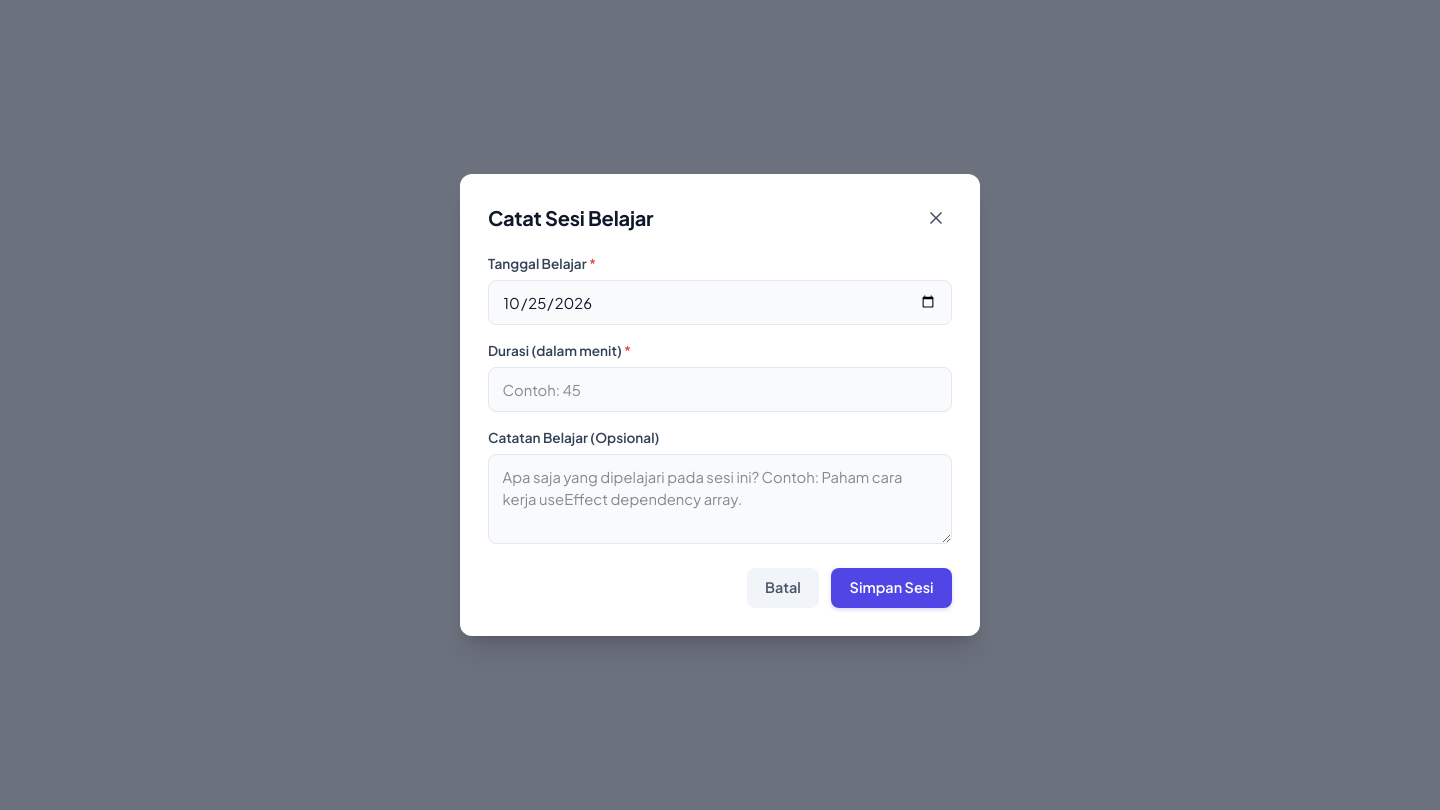
it: SesiForm Component tests › menampilkan error jika tanggal dikosongkan
Clear the date field labelled "Tanggal Belajar *". click: (720, 303)
box: [488,280,952,325]
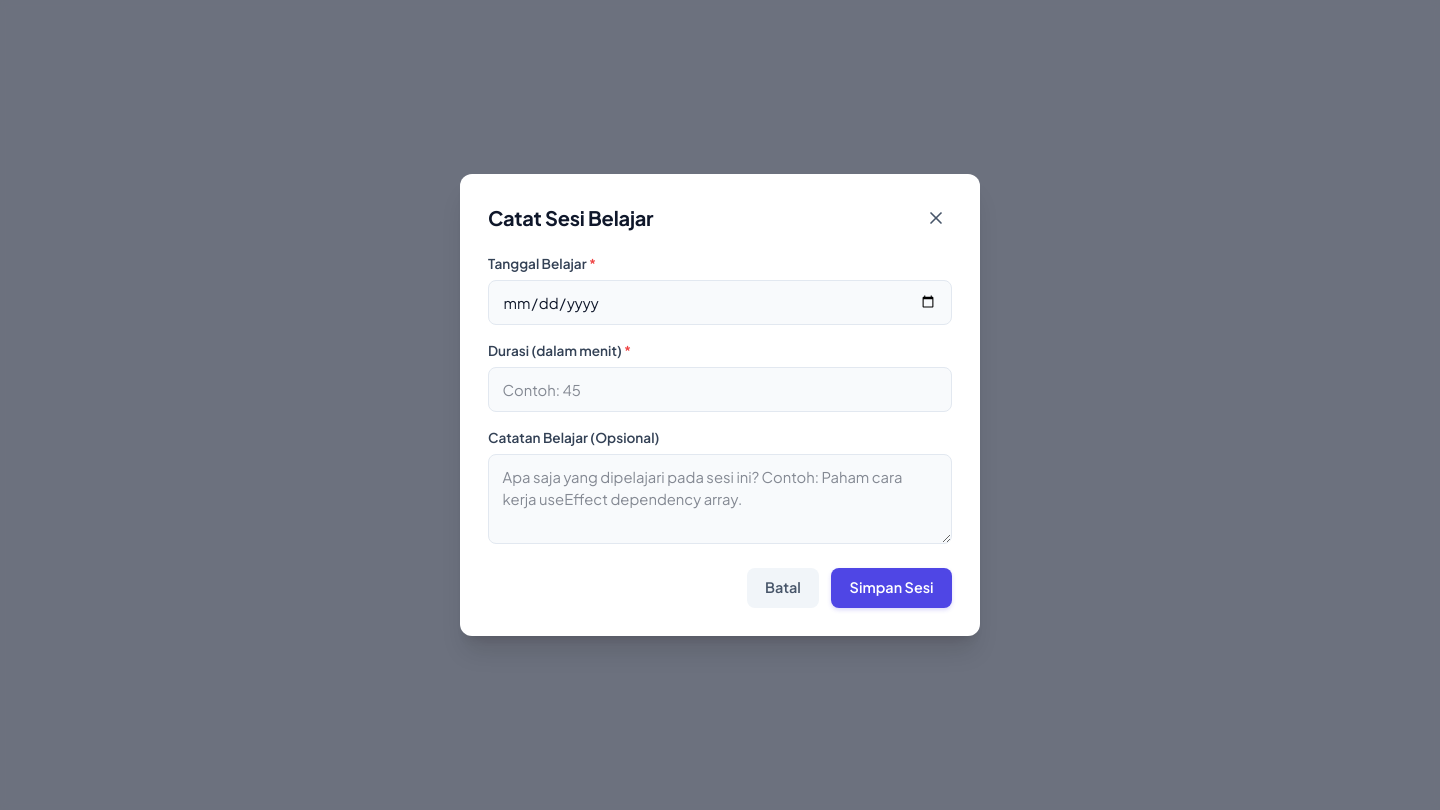
Type "30" into the number field labelled "Durasi (dalam menit) *". click: (720, 390)
box: [488,367,952,412]
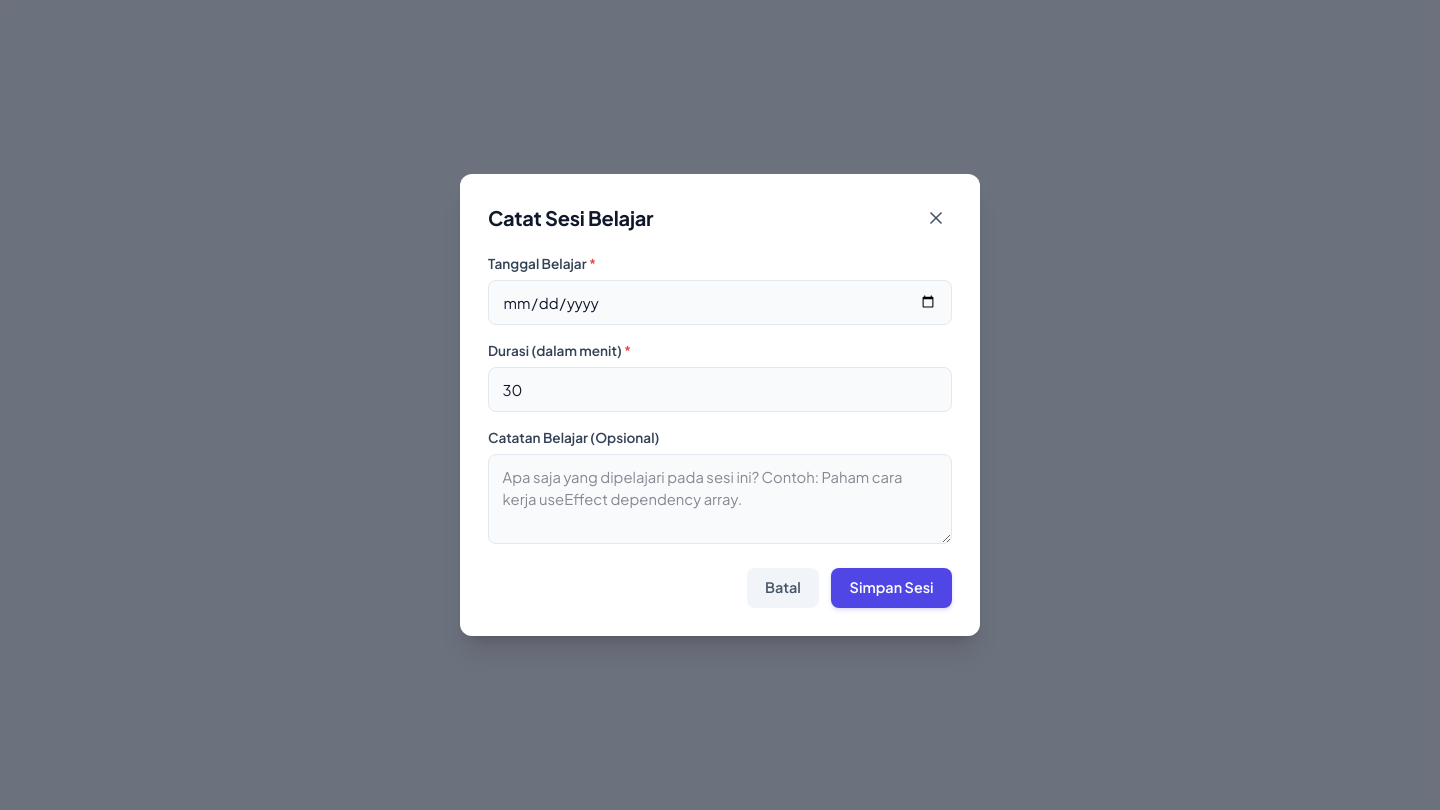
Click the button "Simpan Sesi". click: (892, 588)
box: [831,568,952,608]
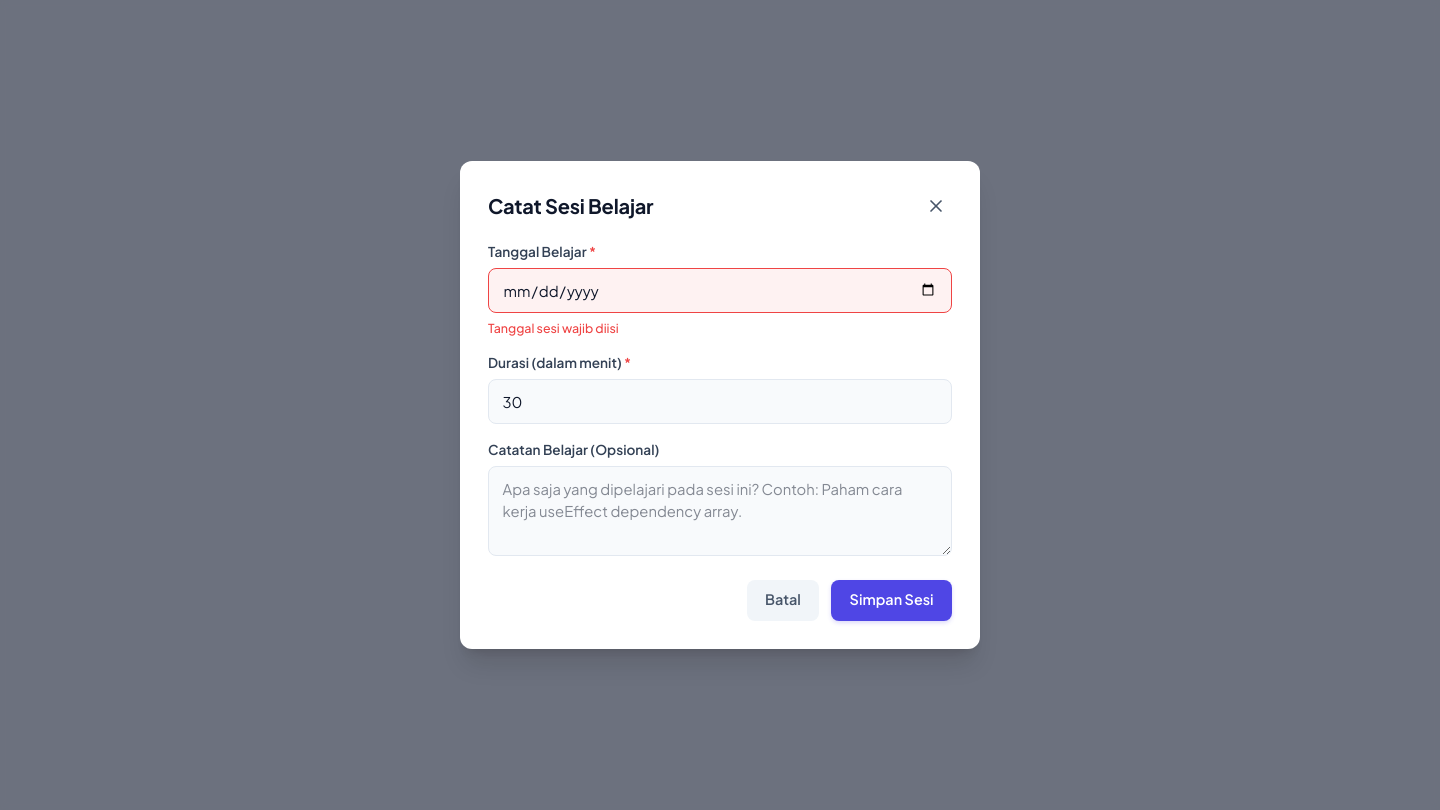
Result: the text "Tanggal sesi wajib diisi" is shown at [488,320,619,336]
